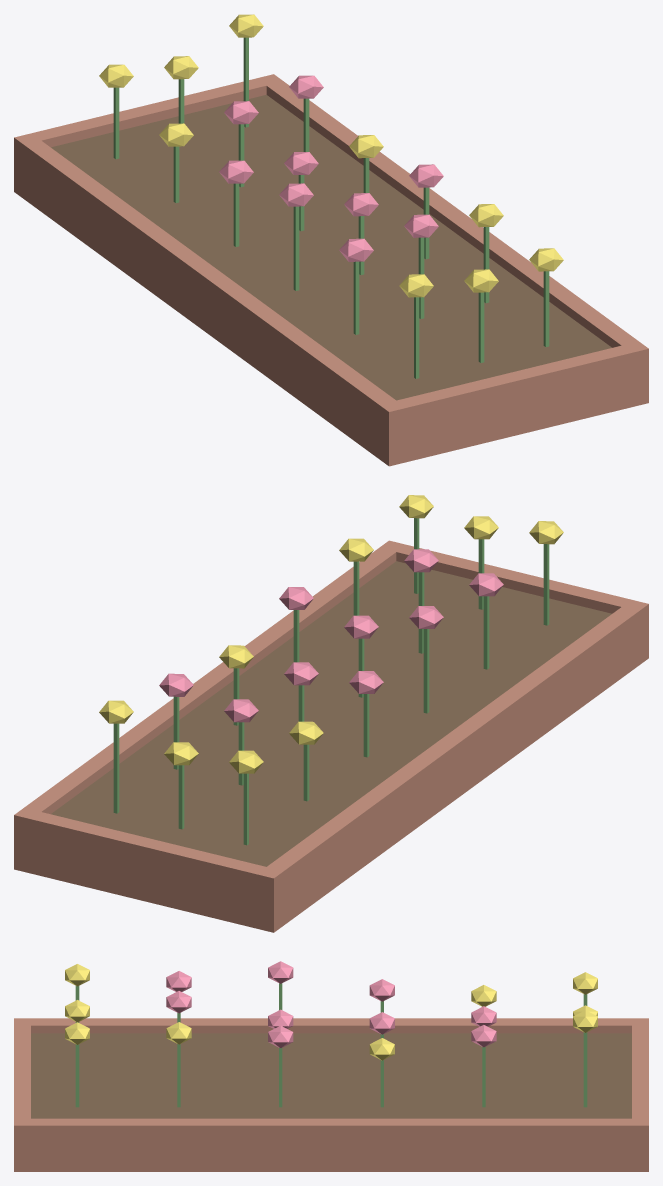
File: flower_bed.glb
3 views of the same model, one above another, from view 1: azimuth 30°, elevation 25°; view 2: azimuth 150°, elevation 25°; view 3: azimuth 270°, elevation 25° (orthographic). The views are drawn at different scales.
Bounding box in the file's own units: 0.6 × 0.3428 × 1.5.
